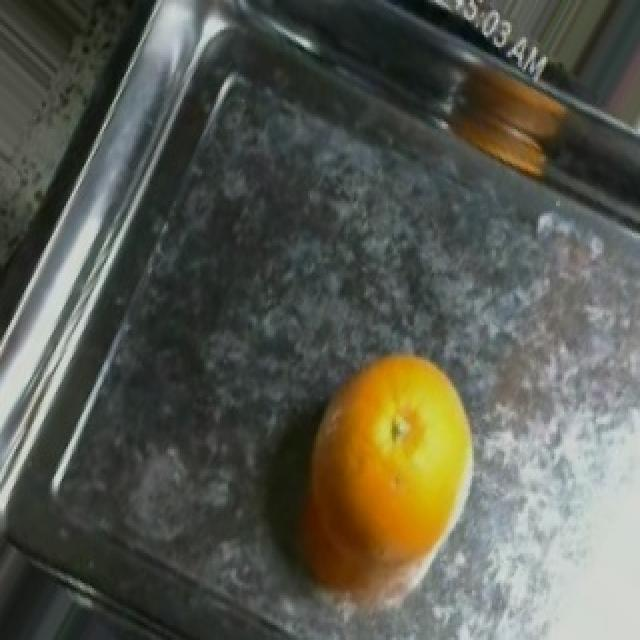Fruit: (248, 335, 498, 640), (590, 0, 640, 179)
